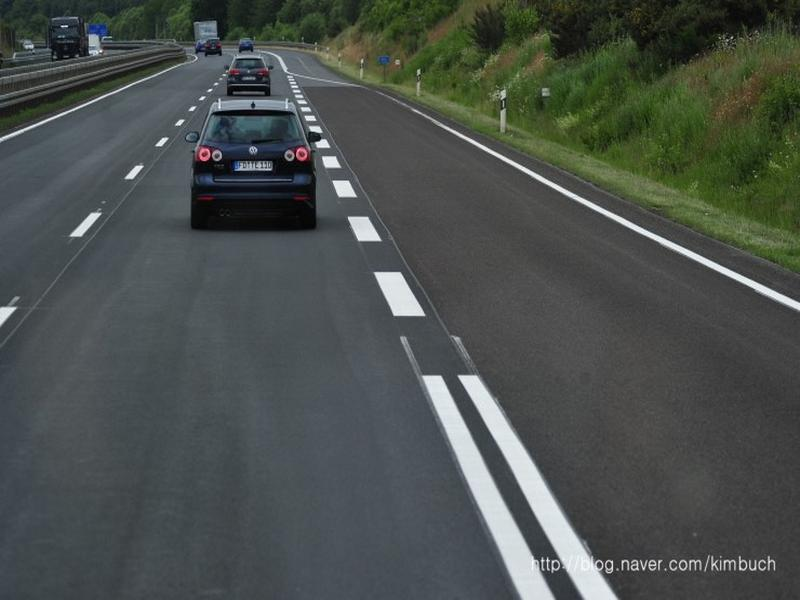car: (191, 103, 318, 226), (225, 55, 272, 95)
lane: (427, 373, 524, 569), (373, 266, 425, 327), (350, 213, 380, 247)
